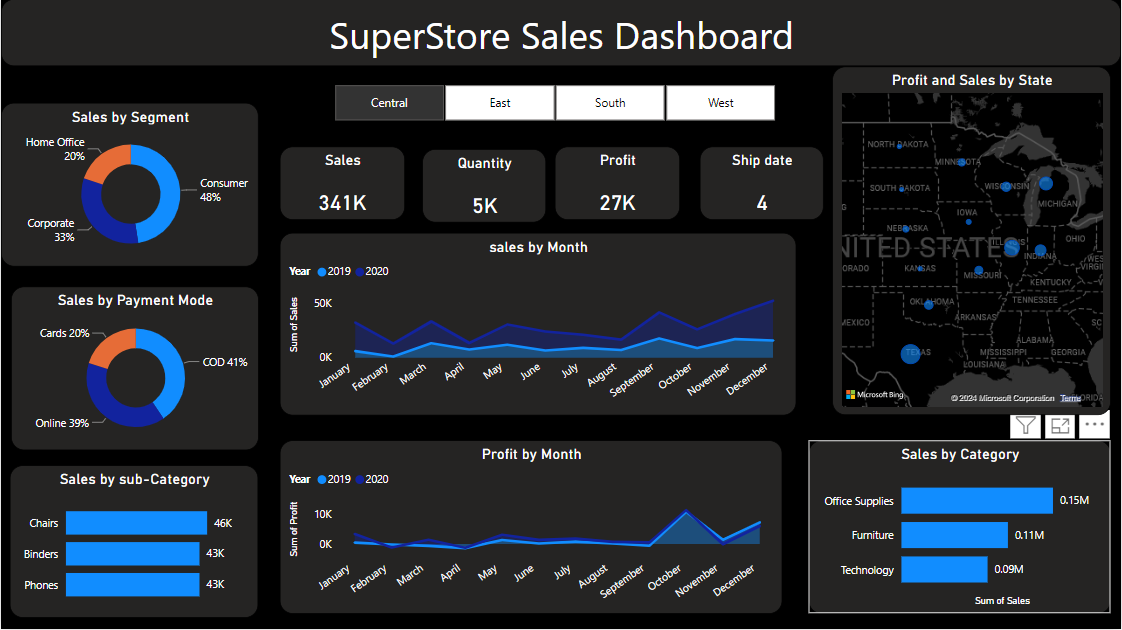

Layout of this report page (visuals, bound fields, positions):
{"tool":"powerbi","page":{"name":"Page 1","canvas":[1280,720],"ordinal":0},"visuals":[{"type":"textbox","box":[0,0,1280,77.1],"z":0},{"type":"barChart","title":" Sales by Category","fields":{"Y":["Sum(SuperStore_Sales_Dataset.Sales)"],"Category":["SuperStore_Sales_Dataset.Category"]},"box":[922.9,504.3,345.7,198.6],"z":1000},{"type":"barChart","title":" Sales by sub-Category","fields":{"Y":["Sum(SuperStore_Sales_Dataset.Sales)"],"Category":["SuperStore_Sales_Dataset.Sub-Category"]},"box":[10,532.9,284.3,174.3],"z":2000},{"type":"stackedAreaChart","title":"sales by Month","fields":{"Y":["Sum(SuperStore_Sales_Dataset.Sales)"],"Category":["SuperStore_Sales_Dataset.Order Date.Variation.Date Hierarchy.Month","SuperStore_Sales_Dataset.Order Date.Variation.Date Hierarchy.Day"],"Series":["SuperStore_Sales_Dataset.Order Date.Variation.Date Hierarchy.Year"]},"box":[318.6,267.1,590,208.6],"z":4000},{"type":"stackedAreaChart","title":"Profit by Month","fields":{"Category":["SuperStore_Sales_Dataset.Order Date.Variation.Date Hierarchy.Month","SuperStore_Sales_Dataset.Order Date.Variation.Date Hierarchy.Day"],"Series":["SuperStore_Sales_Dataset.Order Date.Variation.Date Hierarchy.Year"],"Y":["Sum(SuperStore_Sales_Dataset.Profit)"]},"box":[318.6,504.3,574.3,198.6],"z":5000},{"type":"donutChart","title":" Sales by Segment","fields":{"Category":["SuperStore_Sales_Dataset.Segment"],"Y":["Sum(SuperStore_Sales_Dataset.Sales)"]},"box":[0,118.6,294.3,187.1],"z":7000},{"type":"donutChart","title":"Sales by Payment Mode","fields":{"Y":["Sum(SuperStore_Sales_Dataset.Sales)"],"Category":["SuperStore_Sales_Dataset.Payment Mode"]},"box":[11.4,328.6,282.9,187.1],"z":8000},{"type":"slicer","fields":{"Values":["SuperStore_Sales_Dataset.Region"]},"box":[355.7,91.4,552.9,54.3],"z":9000},{"type":"cardVisual","title":"Sales","fields":{"Data":["Sum(SuperStore_Sales_Dataset.Sales)"]},"box":[318.6,168.6,142.9,84.3],"z":10000},{"type":"cardVisual","title":"Quantity","fields":{"Data":["Sum(SuperStore_Sales_Dataset.Quantity)"]},"box":[481.4,171.4,141.4,84.3],"z":11000},{"type":"cardVisual","title":"Profit","fields":{"Data":["Sum(SuperStore_Sales_Dataset.Profit)"]},"box":[632.9,168.6,142.9,84.3],"z":12000},{"type":"cardVisual","title":"Ship date","fields":{"Data":["Avg(SuperStore_Sales_Dataset.Avgdelivery)"]},"box":[798.6,168.6,141.4,84.3],"z":13000},{"type":"map","title":"Profit and Sales by State","fields":{"Category":["SuperStore_Sales_Dataset.State"],"Size":["Sum(SuperStore_Sales_Dataset.Sales)"]},"box":[950,77.1,318.6,398.6],"z":13001}]}

Visuals, with their boxes in screenshot pixels (x1, y1, x2, y2), scaled from the page's 1280x720 canvas onto the 1122x630 screenshot:
textbox: locate(0, 0, 1121, 67)
" Sales by Category" barChart: locate(809, 441, 1112, 615)
" Sales by sub-Category" barChart: locate(9, 466, 258, 619)
"sales by Month" stackedAreaChart: locate(279, 234, 796, 416)
"Profit by Month" stackedAreaChart: locate(279, 441, 783, 615)
" Sales by Segment" donutChart: locate(0, 104, 258, 267)
"Sales by Payment Mode" donutChart: locate(10, 288, 258, 451)
slicer - SuperStore_Sales_Dataset.Region: locate(312, 80, 796, 127)
"Sales" cardVisual: locate(279, 148, 405, 221)
"Quantity" cardVisual: locate(422, 150, 546, 224)
"Profit" cardVisual: locate(555, 148, 680, 221)
"Ship date" cardVisual: locate(700, 148, 824, 221)
"Profit and Sales by State" map: locate(833, 67, 1112, 416)
